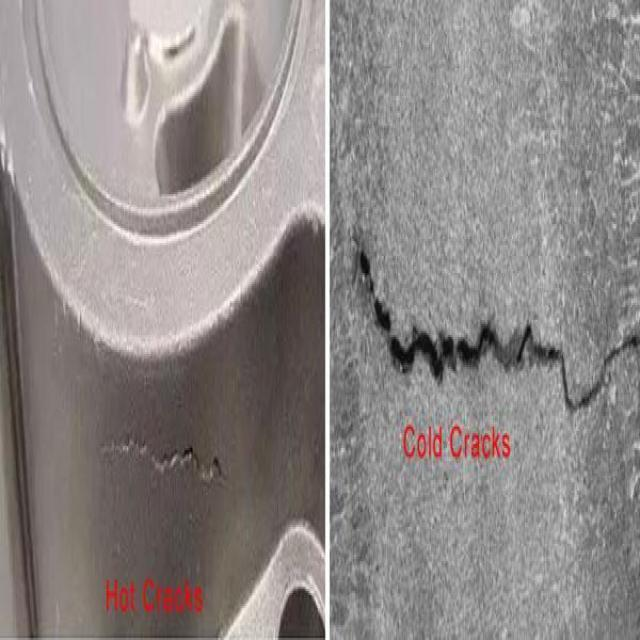Crack: (355, 228, 640, 417), (87, 433, 233, 497)
